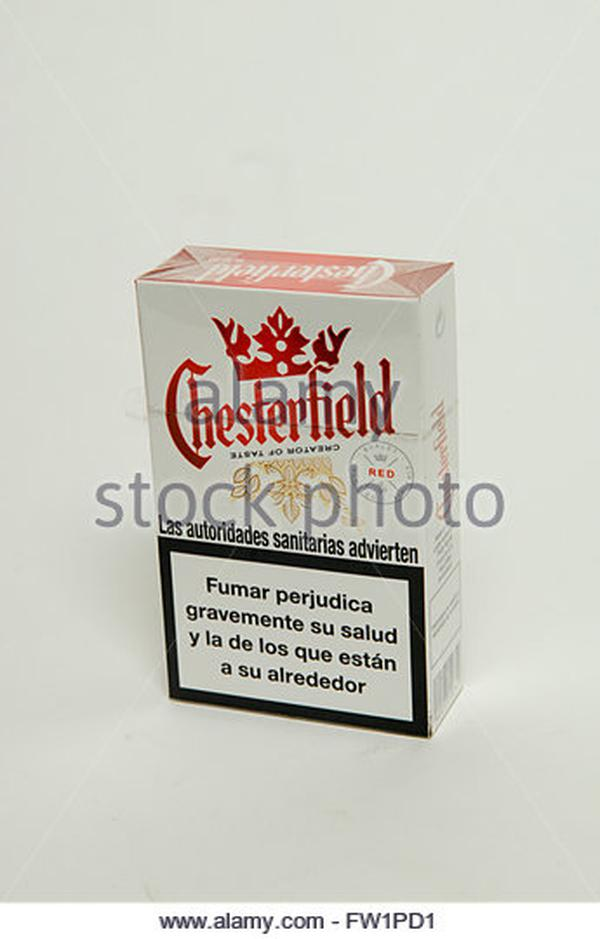chesterfield_red: (169, 286, 429, 697)
